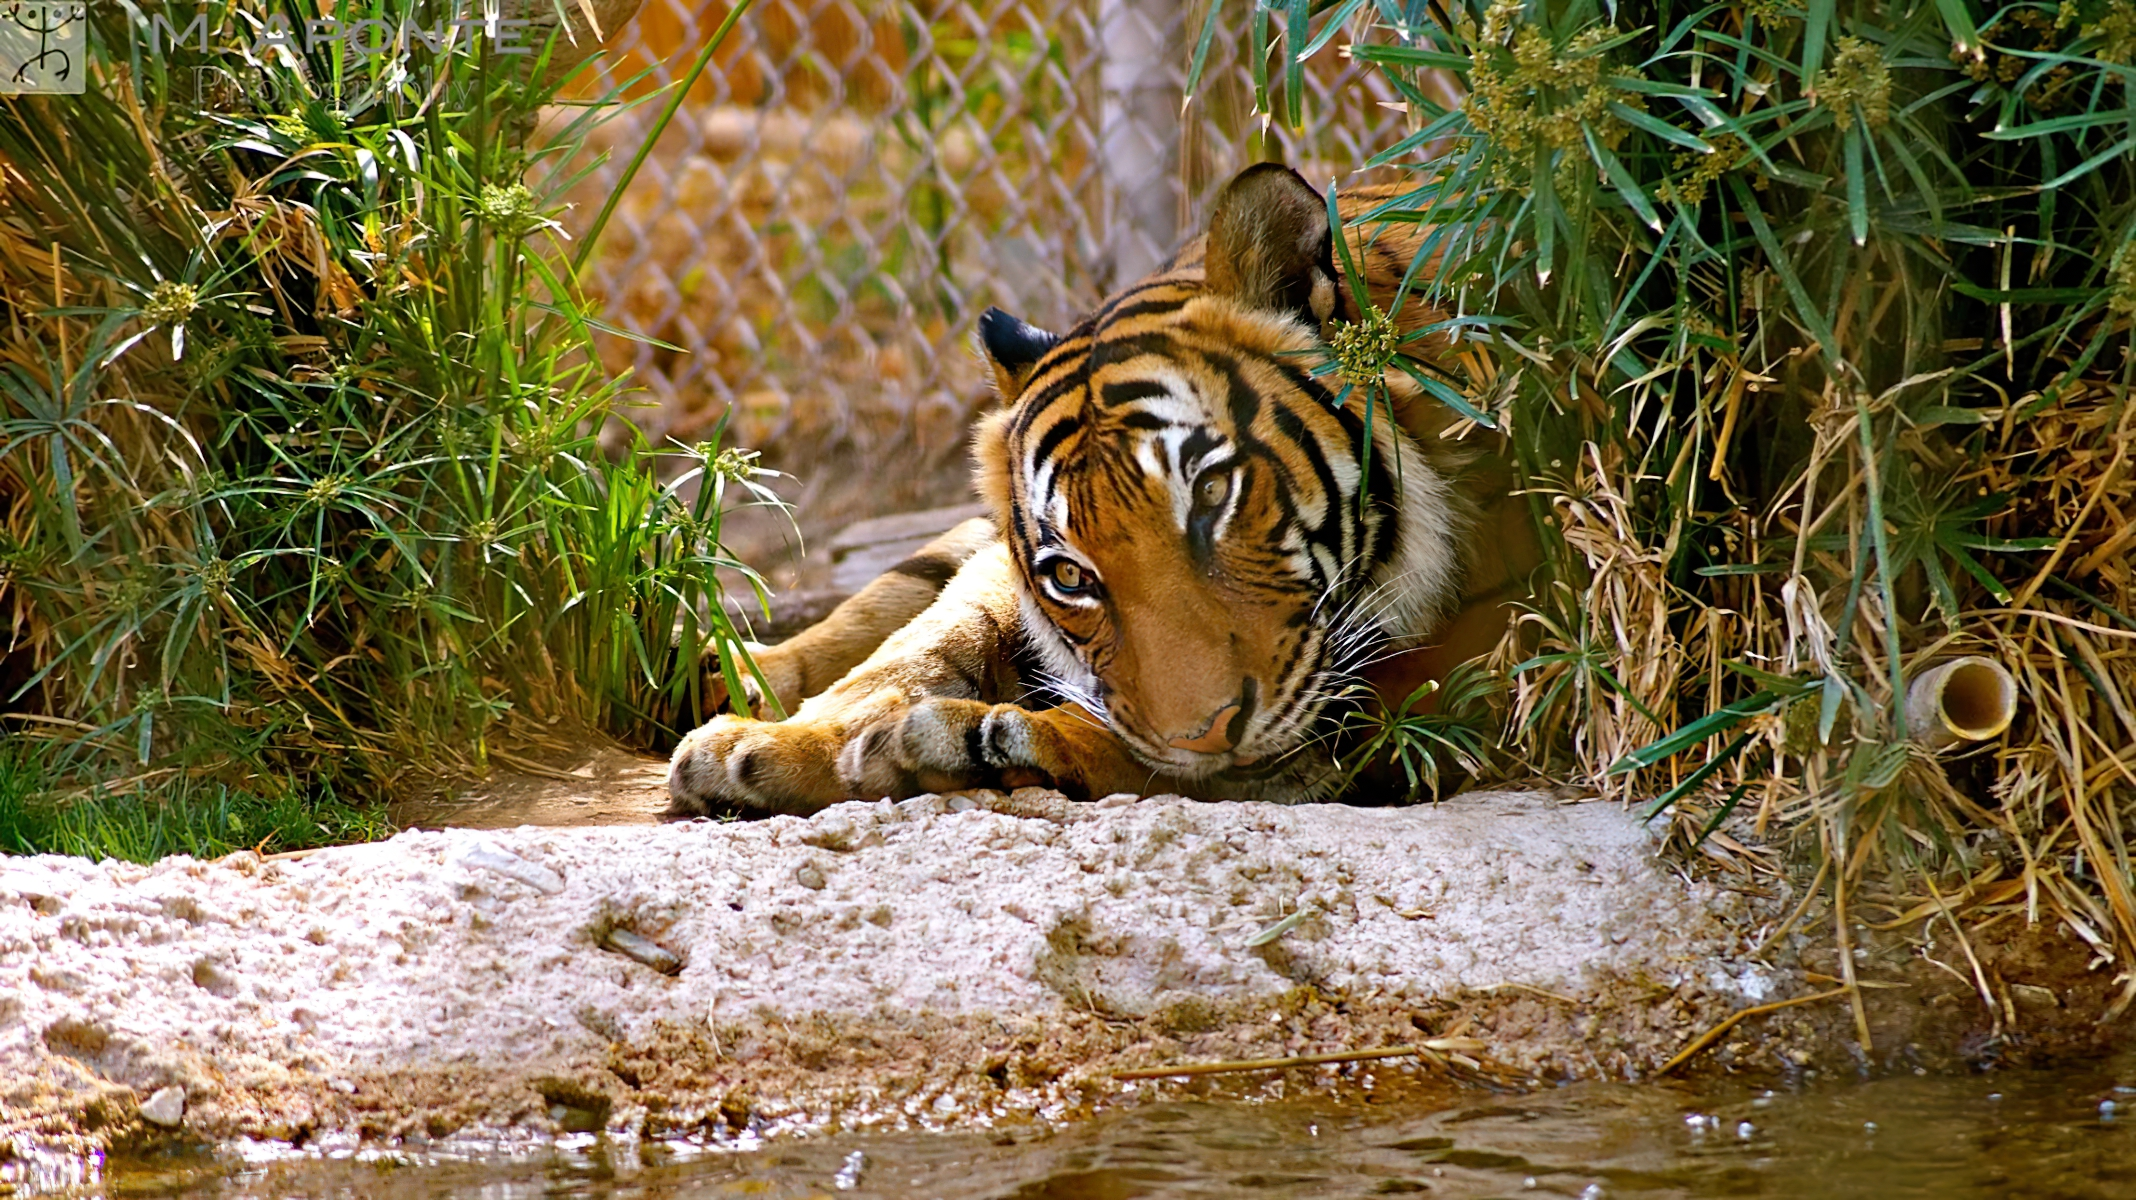tiger: (619, 120, 1785, 908)
